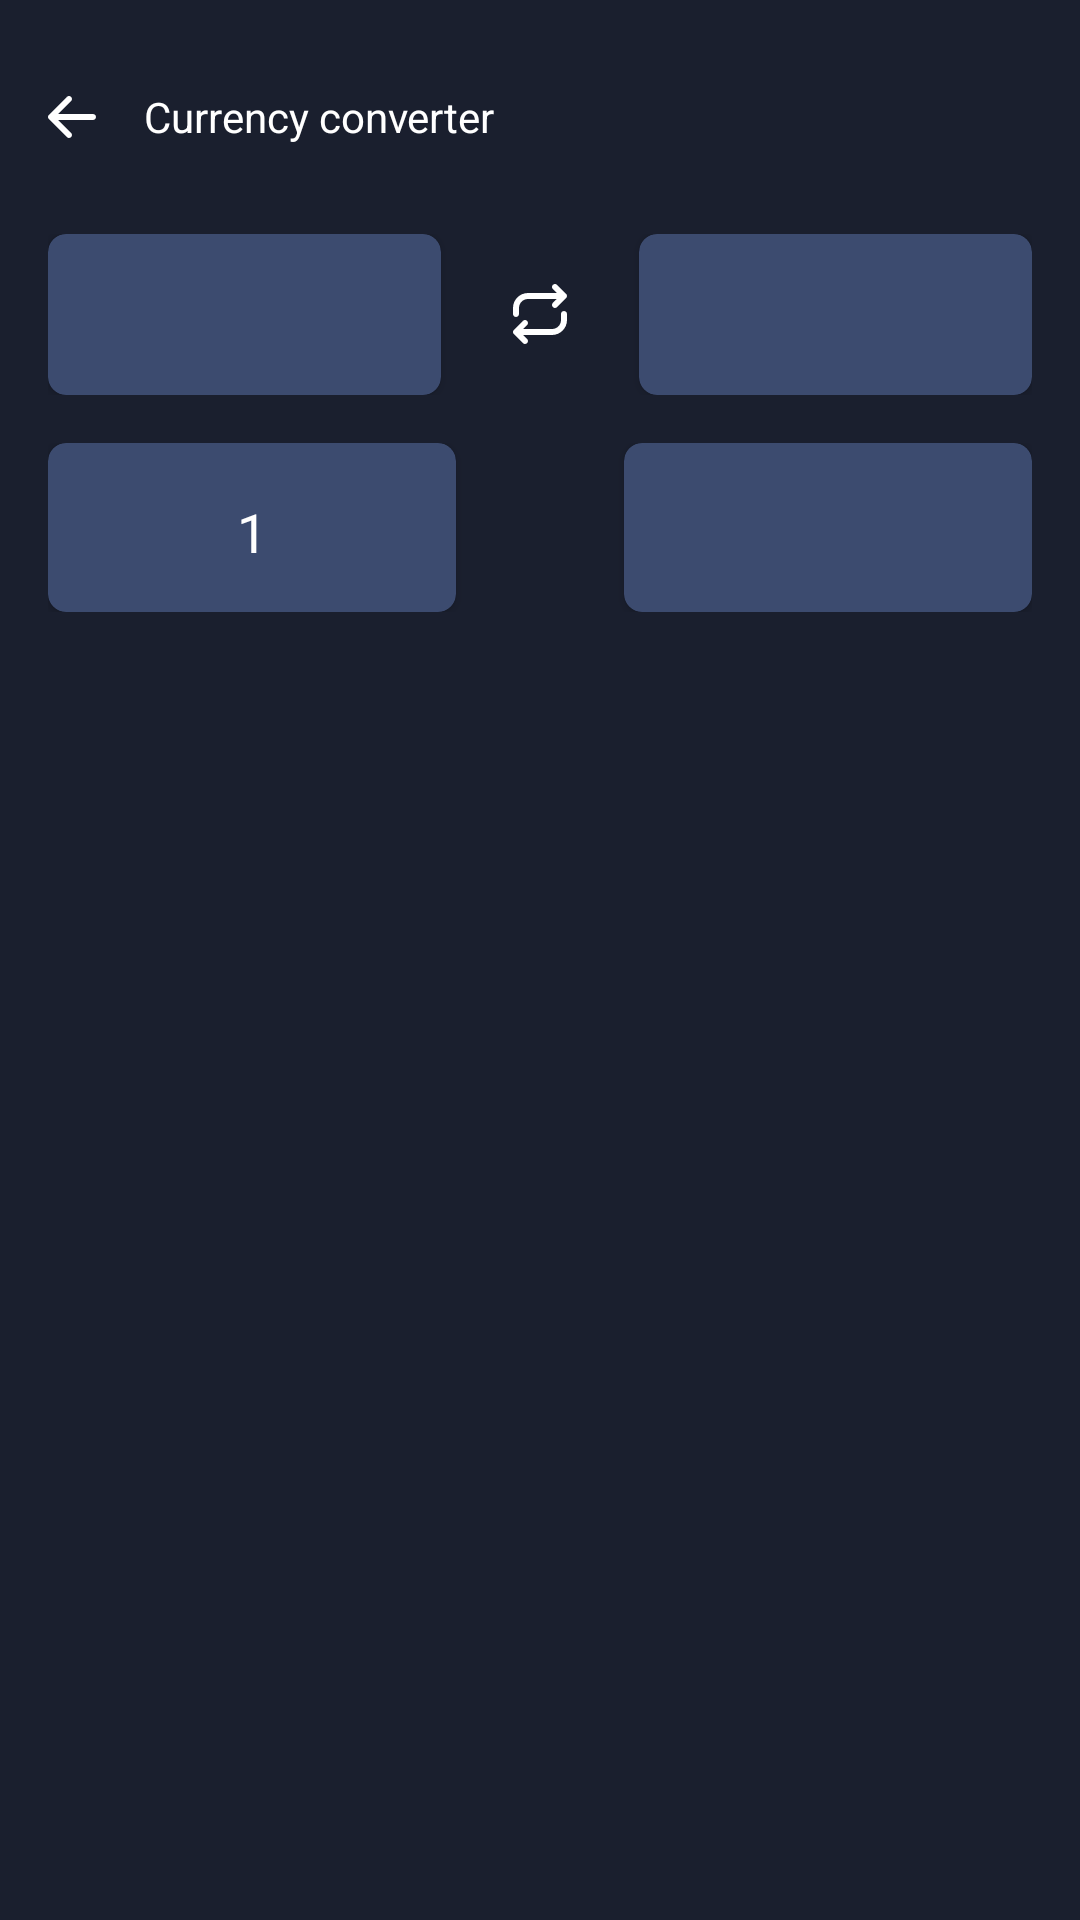

Screen size 1080 x 1920. Icon name, then its center in pixels as (x,y):
BACK BUTTON: (72,117)
change: (540,314)
